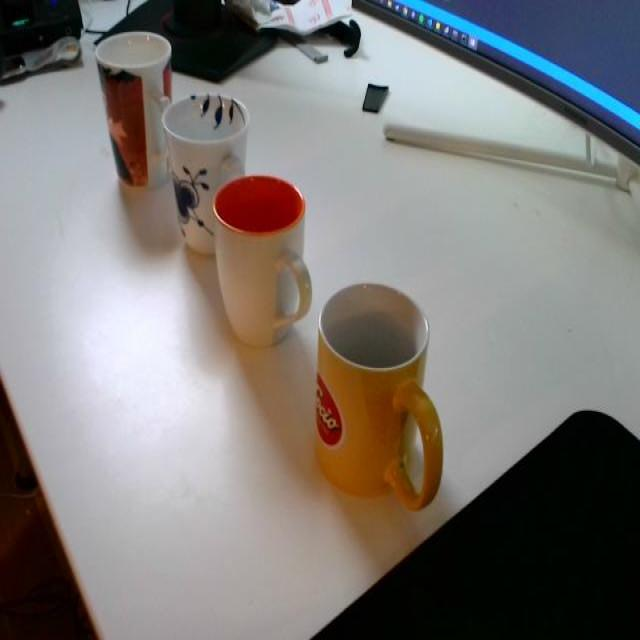cup: (290, 258, 462, 510), (215, 144, 329, 373), (167, 52, 269, 269), (90, 15, 184, 197)
